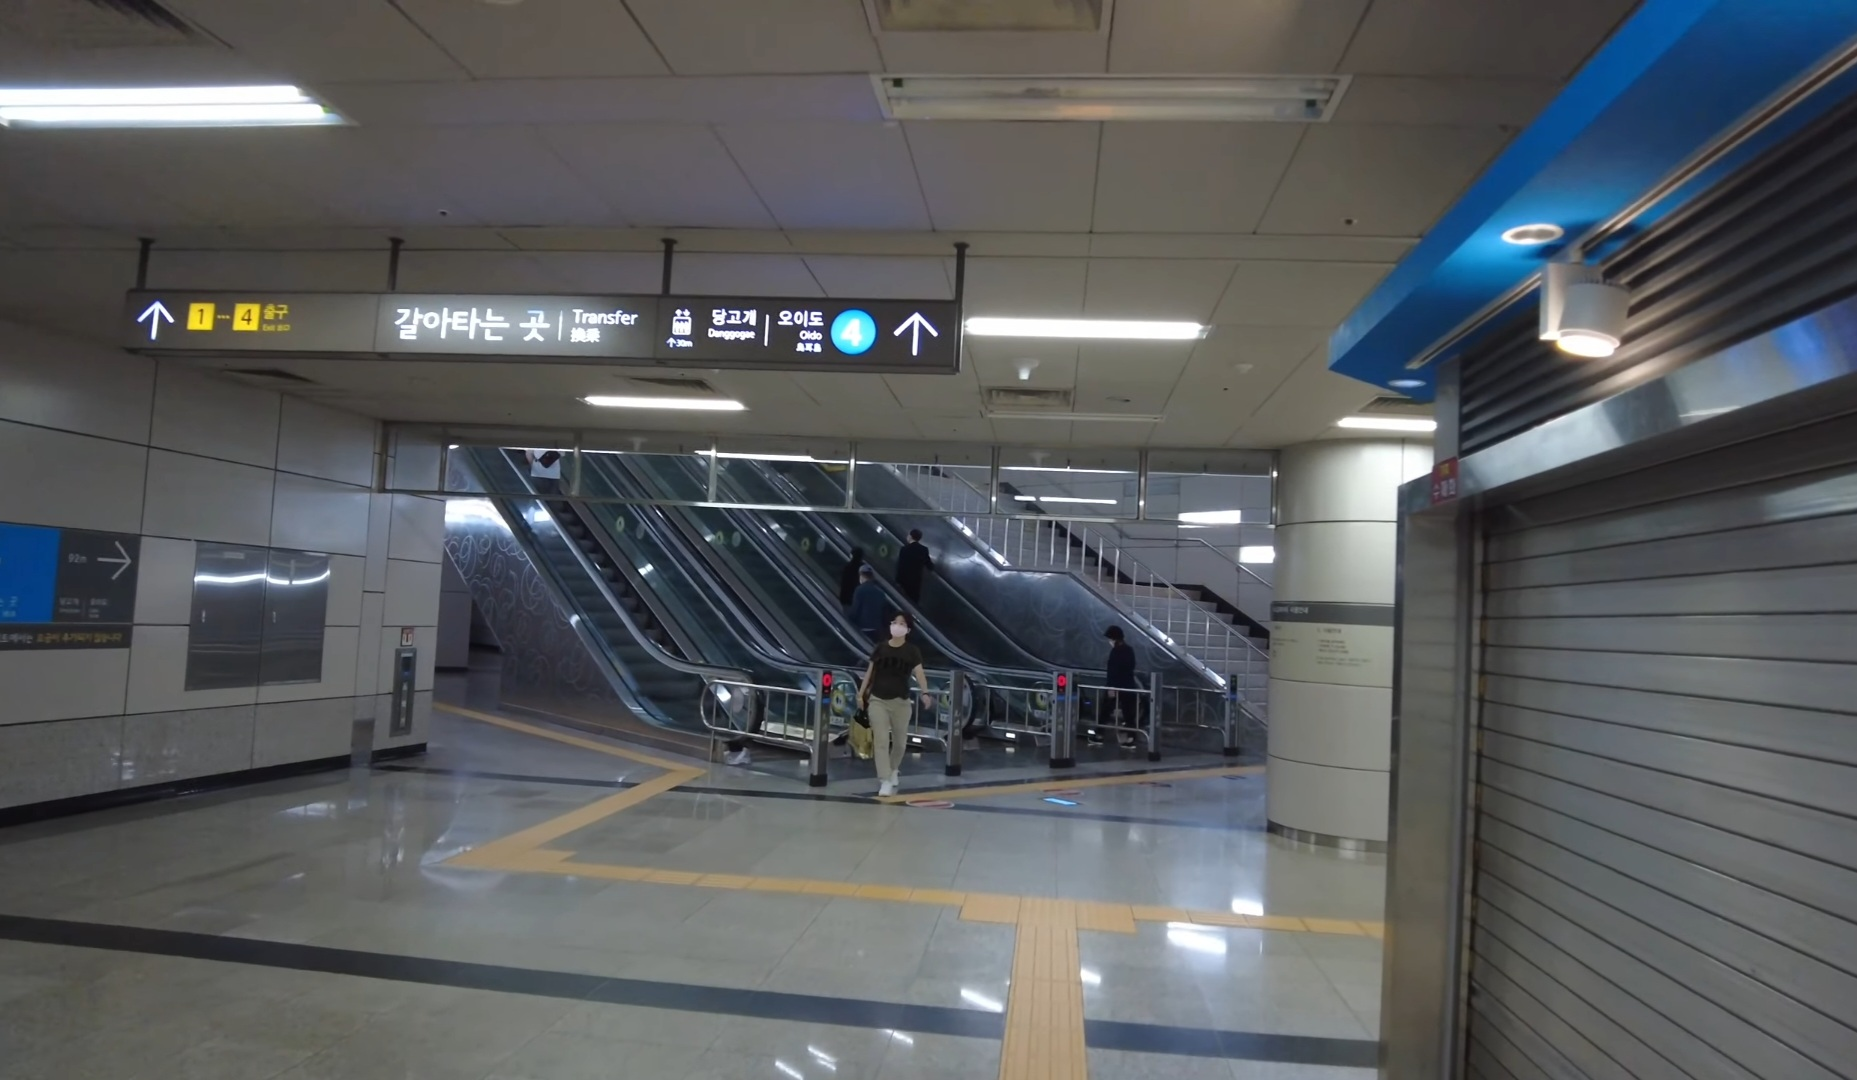signBoard: (117, 274, 972, 379)
